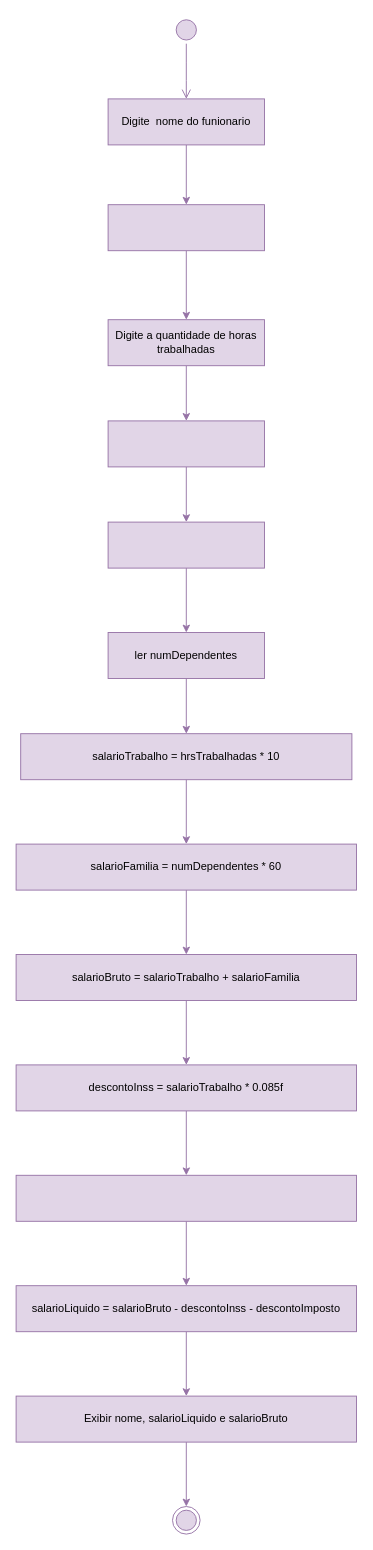
Image size: 373x1550. Some labels were removed from this diagram. The centre of each missing label's shape, as x and y in pixels:
"descontoImposto = salarioTrabalho * 0.05f" belongs at (185,1197).
"Digite a quantidade de dependentes" belongs at (185,544).
"ler hrsTrabalhada" belongs at (185,443).
"ler nome" belongs at (185,227).
